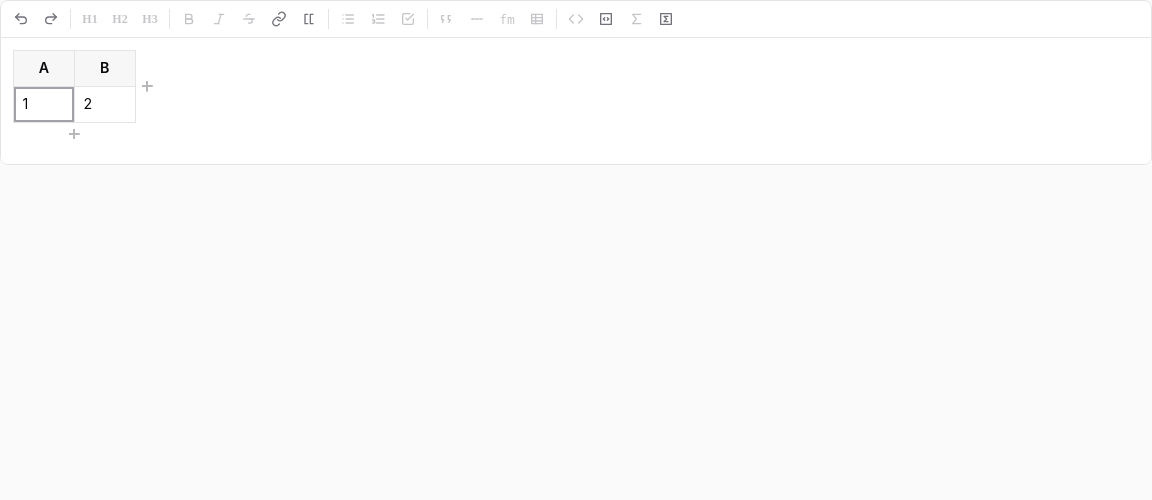
Test case: right-click on a cell selection shows structural rows AND an enabled Format group
Right-click the cell "1".
right_click(44, 104)  # box [14,86,74,122]
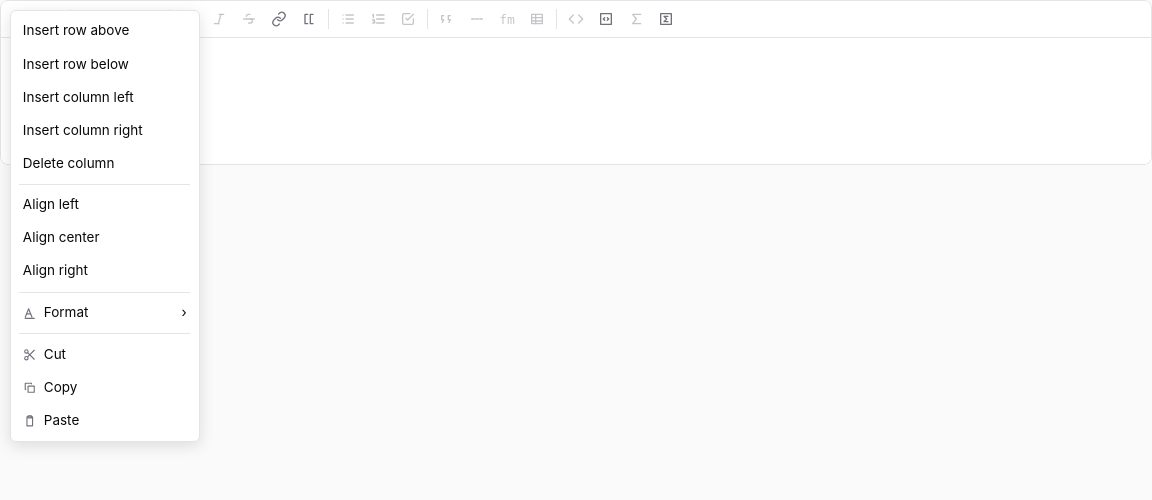
Now the text "Insert row above" is shown, box [23,20,129,43]
Now the text "Align left" is shown, box [23,193,79,217]
Now the text "Format" is shown, box [44,301,88,325]
Hover over the button with class "cm-inplace-menu-item" showing "Format".
mouse_move(105, 313)  # box [15,296,195,329]
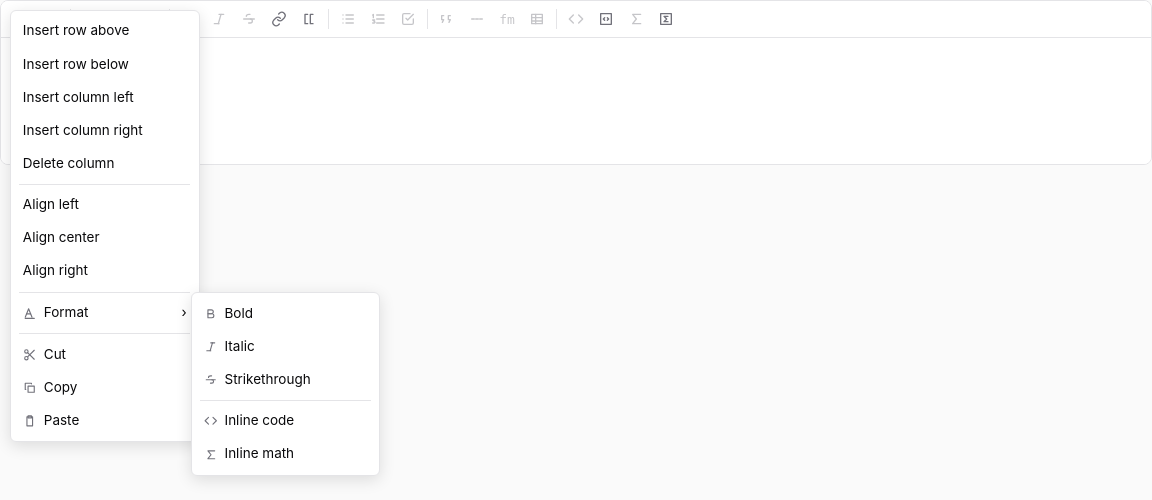
Now the button with class "cm-inplace-menu-item" showing "Bold" is enabled, box [196,297,376,330]
